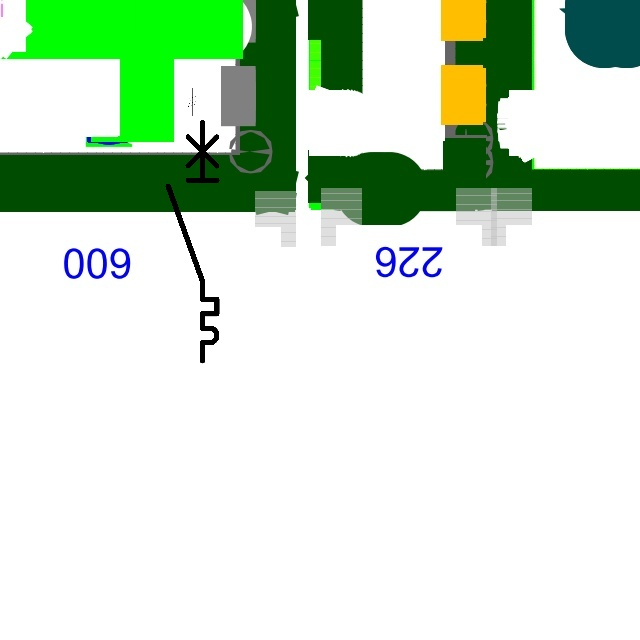interruptor_termomagnetico: (162, 116, 223, 366)
